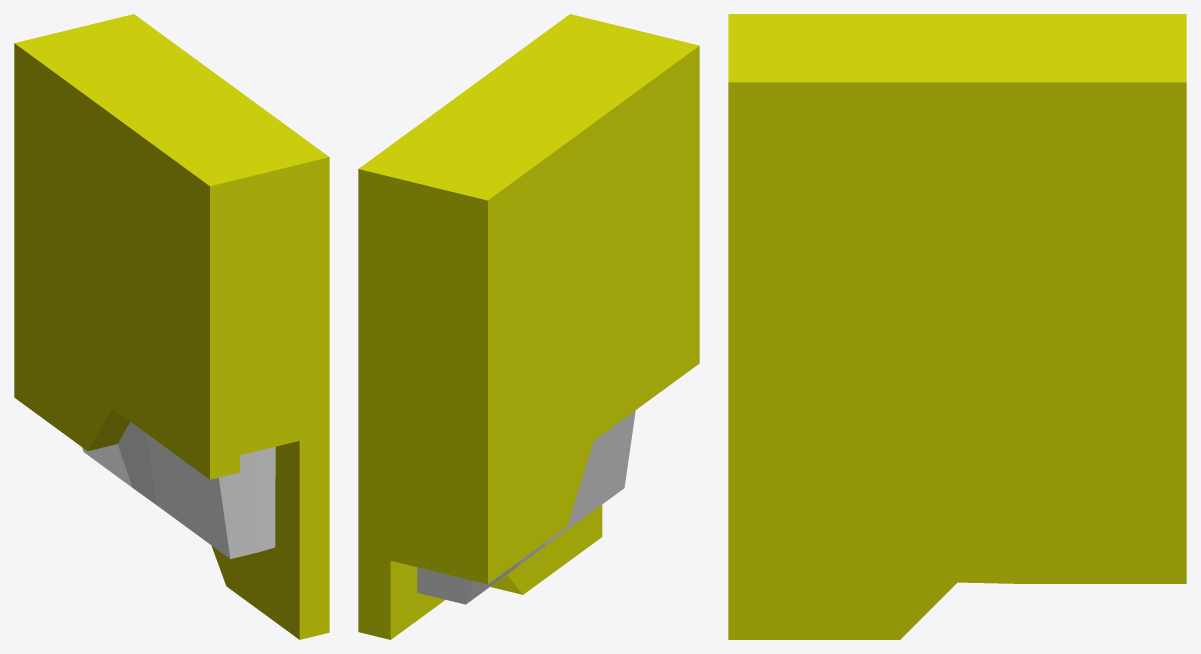
Rendered from Folder.fbx.
3 views of the same model, side by side, from view 1: azimuth 30°, elevation 25°; view 2: azimuth 150°, elevation 25°; view 3: azimuth 270°, elevation 25° (orthographic). The views are drawn at different scales.
Parts seen in each view (by area): view 1: Cube.002; view 2: Cube.002; view 3: Cube.002.
Boxes of the visible parts, x1,y1,x2,y2 form: Cube.002: [14, 14, 329, 639]; Cube.002: [358, 14, 699, 639]; Cube.002: [728, 14, 1186, 639].
Size of the model in its own units: 70.63 by 268 by 200.
